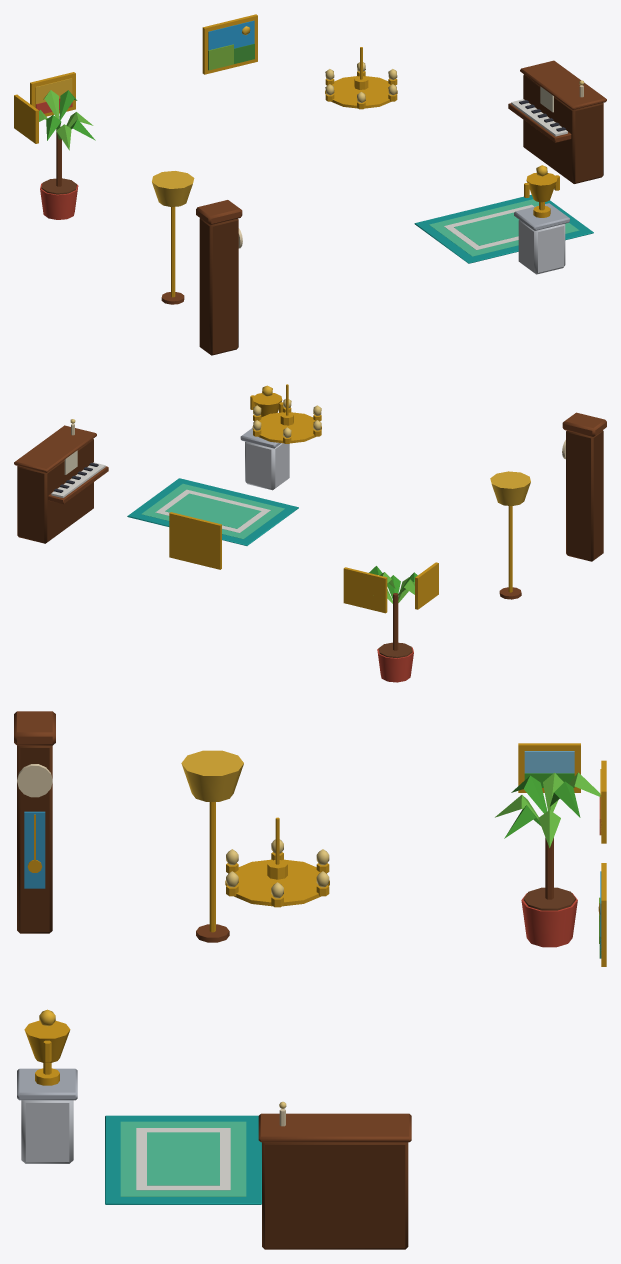
The model's file is interior-extras.glb.
The picture shows the model from 3 angles, top to bottom: view 1: azimuth 30°, elevation 25°; view 2: azimuth 150°, elevation 25°; view 3: azimuth 270°, elevation 25°; orthographic projection. The views are drawn at different scales.
Visible parts, largest first — view 1: home_L7, home_L9, home_L5, home_L10, home_L3, home_L6, home_L8, home_L2, home_L4; view 2: home_L7, home_L9, home_L5, home_L10, home_L2, home_L6, home_L3, home_L8, home_L4; view 3: home_L7, home_L5, home_L9, home_L10, home_L3, home_L8, home_L4, home_L2, home_L6.
Boxes of the visible parts, x1=… form: home_L7: x1=508, y1=60, x2=606, y2=183; home_L9: x1=196, y1=200, x2=242, y2=355; home_L5: x1=414, y1=194, x2=593, y2=263; home_L10: x1=514, y1=165, x2=569, y2=274; home_L3: x1=39, y1=90, x2=95, y2=219; home_L6: x1=202, y1=14, x2=257, y2=74; home_L8: x1=325, y1=47, x2=397, y2=109; home_L2: x1=14, y1=72, x2=75, y2=143; home_L4: x1=152, y1=171, x2=194, y2=304; home_L7: x1=14, y1=419, x2=108, y2=543; home_L9: x1=562, y1=412, x2=606, y2=561; home_L5: x1=127, y1=478, x2=298, y2=545; home_L10: x1=240, y1=385, x2=289, y2=490; home_L2: x1=343, y1=562, x2=438, y2=613; home_L6: x1=169, y1=512, x2=221, y2=569; home_L3: x1=369, y1=566, x2=417, y2=682; home_L8: x1=252, y1=384, x2=321, y2=443; home_L4: x1=490, y1=471, x2=530, y2=599; home_L7: x1=258, y1=1101, x2=411, y2=1249; home_L5: x1=105, y1=1115, x2=261, y2=1204; home_L9: x1=14, y1=711, x2=55, y2=933; home_L10: x1=17, y1=1009, x2=77, y2=1163; home_L3: x1=495, y1=772, x2=600, y2=947; home_L8: x1=225, y1=817, x2=329, y2=907; home_L4: x1=181, y1=750, x2=243, y2=942; home_L2: x1=518, y1=743, x2=606, y2=843; home_L6: x1=598, y1=863, x2=606, y2=966.
Bounding box in the file's own units: 7.68 × 2.8 × 5.67.
